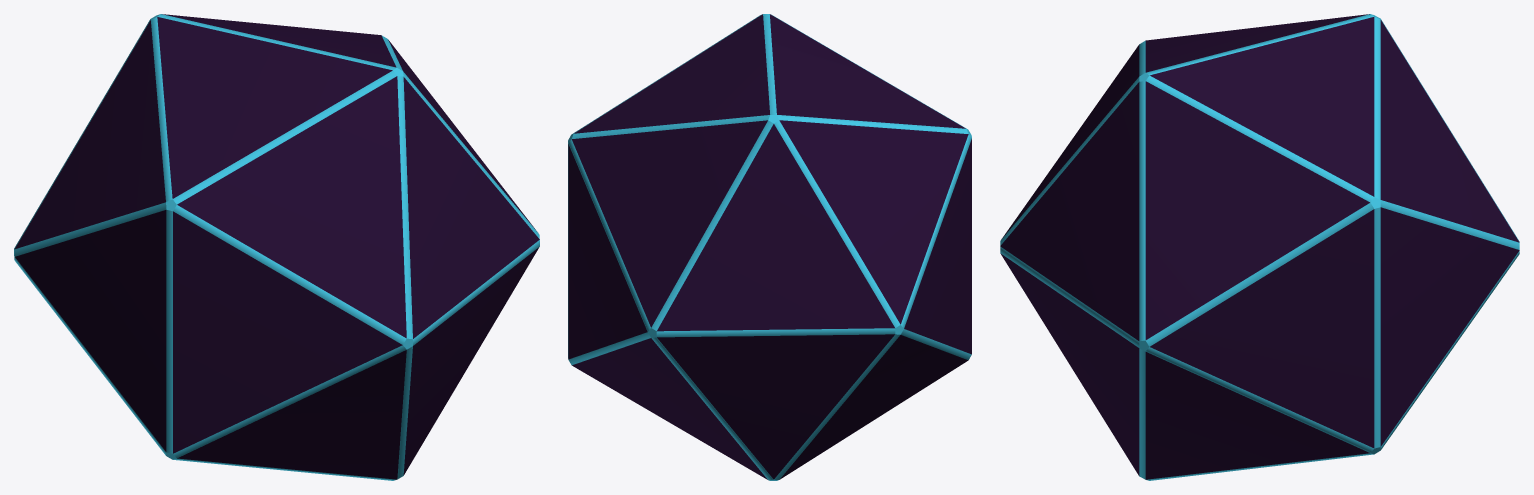
3 views of the same model, side by side, from view 1: azimuth 30°, elevation 25°; view 2: azimuth 150°, elevation 25°; view 3: azimuth 270°, elevation 25° (orthographic). The views are drawn at different scales.
Visible parts, largest first — view 1: pPlatonic1; view 2: pPlatonic1; view 3: pPlatonic1.
Part boxes in pixels (x1,y1,x2,y2): pPlatonic1: (14, 14, 539, 480); pPlatonic1: (568, 14, 971, 480); pPlatonic1: (1000, 14, 1519, 480).
Bounding box in the file's own units: 3.72 × 3.54 × 4.11.
